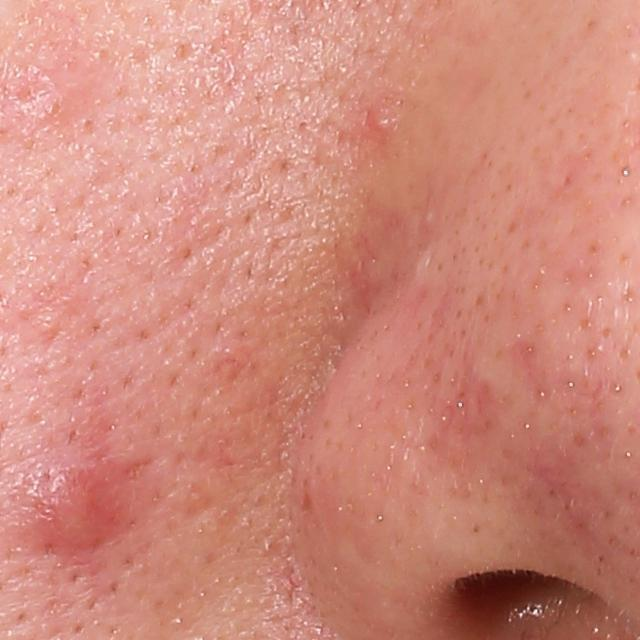papule: (27, 457, 126, 554), (0, 67, 61, 125), (365, 101, 399, 134)
